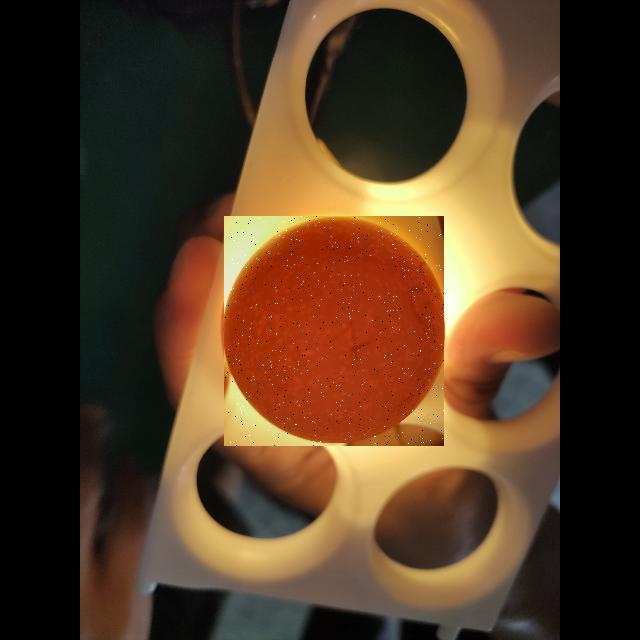Infertile: (224, 216, 444, 446)
